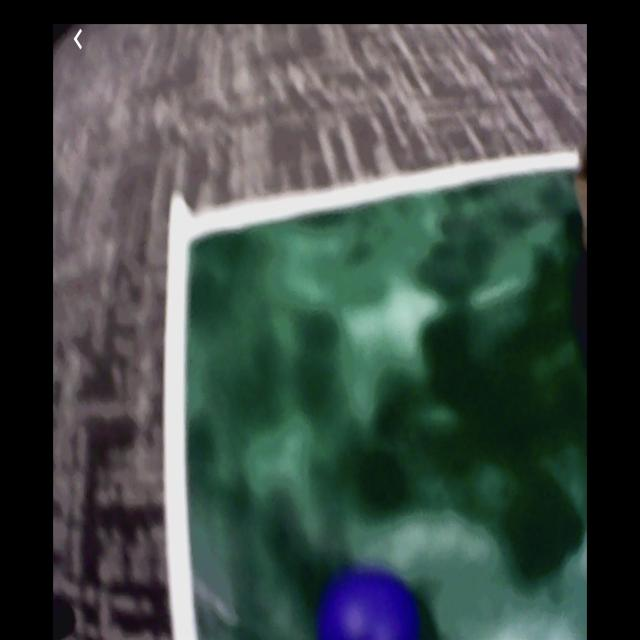ball: (318, 570, 419, 640)
